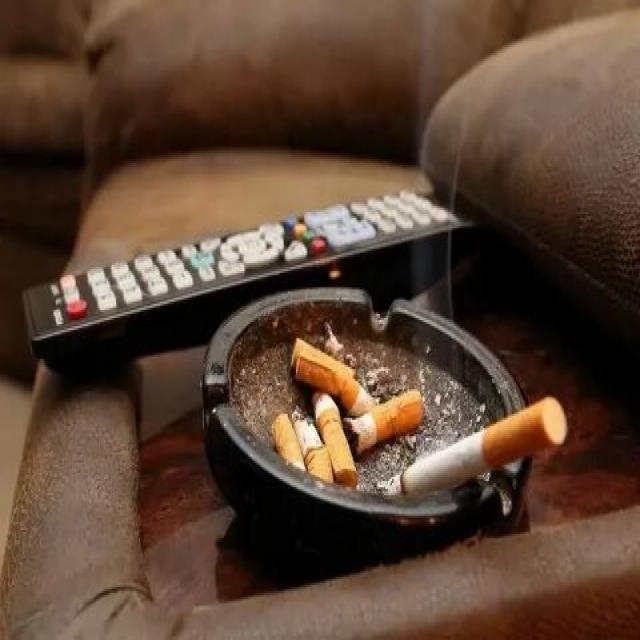cigarette: (398, 388, 578, 502), (342, 375, 430, 461), (309, 385, 367, 510), (288, 332, 373, 412), (291, 406, 336, 500), (265, 399, 303, 504)
